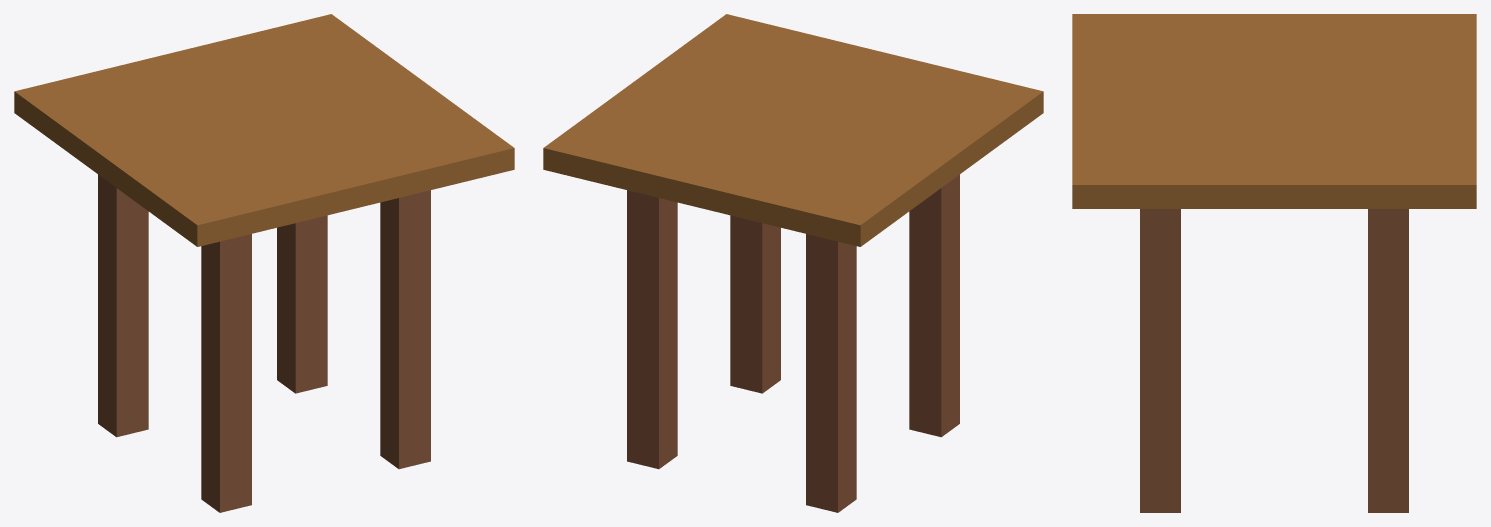
The model's file is Kursi.fbx.
The picture shows the model from 3 angles, left to right: view 1: azimuth 30°, elevation 25°; view 2: azimuth 150°, elevation 25°; view 3: azimuth 270°, elevation 25°; orthographic projection. The views are drawn at different scales.
Visible parts, largest first — view 1: Chair; view 2: Chair; view 3: Chair.
Boxes of the visible parts, <box> form: Chair: <box>14,14,514,512</box>; Chair: <box>543,14,1043,512</box>; Chair: <box>1072,14,1476,512</box>.
Bounding box in the file's own units: 88.58 × 86.2 × 88.58.
